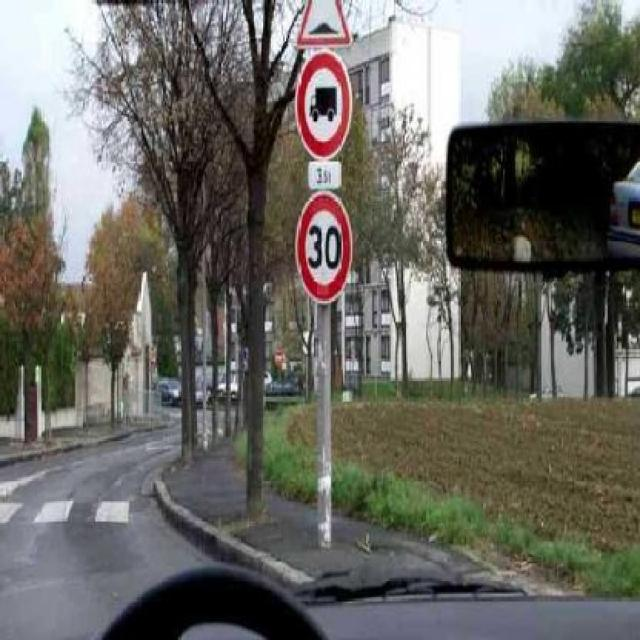forb_speed_over_30: (296, 191, 352, 300)
